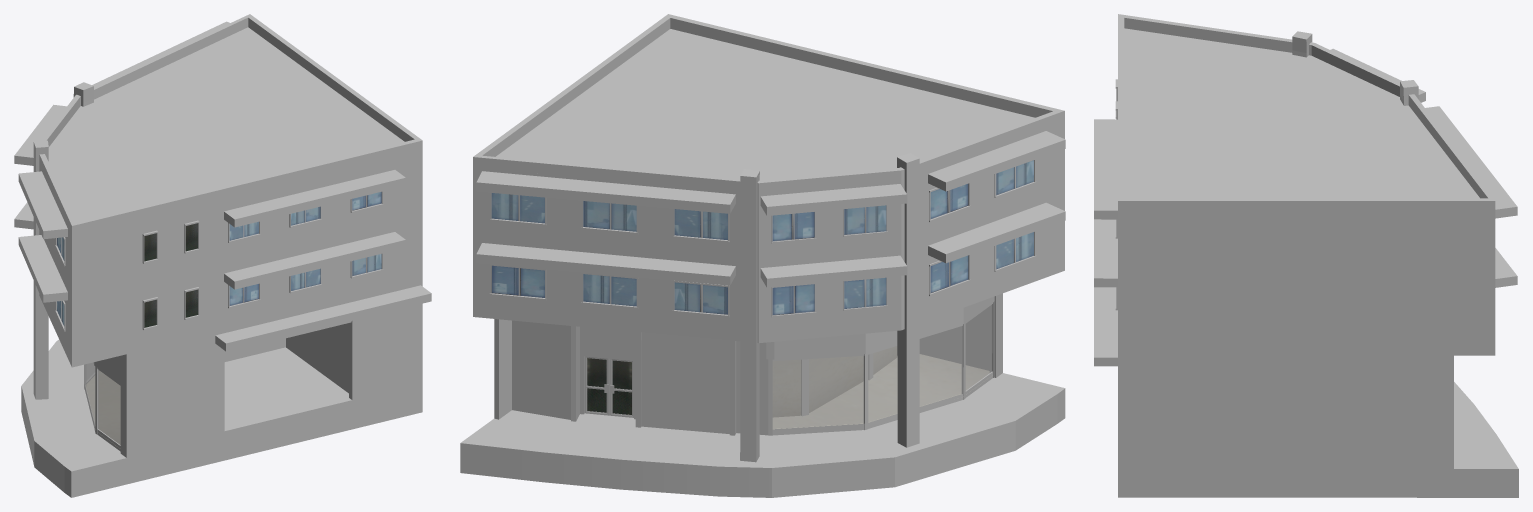
File: bldg_mall_08a.fbx
The picture shows the model from 3 angles, left to right: view 1: azimuth 30°, elevation 25°; view 2: azimuth 150°, elevation 25°; view 3: azimuth 270°, elevation 25°; orthographic projection. The views are drawn at different scales.
Visible parts, largest first — view 1: bldg_mall_08a; view 2: bldg_mall_08a; view 3: bldg_mall_08a.
Boxes of the visible parts, <box> form: bldg_mall_08a: <box>14,14,431,497</box>; bldg_mall_08a: <box>460,14,1065,497</box>; bldg_mall_08a: <box>1094,14,1518,497</box>.
Size of the model in its own units: 14.76 by 10.74 by 13.58.
